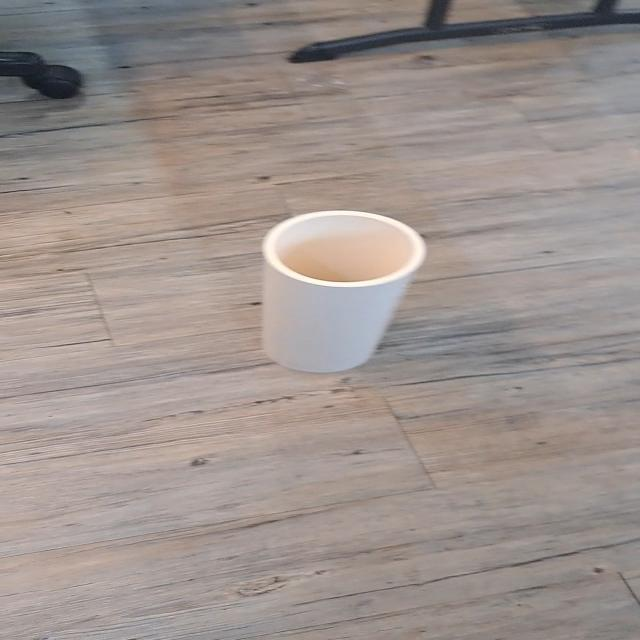CORAL: (255, 200, 430, 381)
